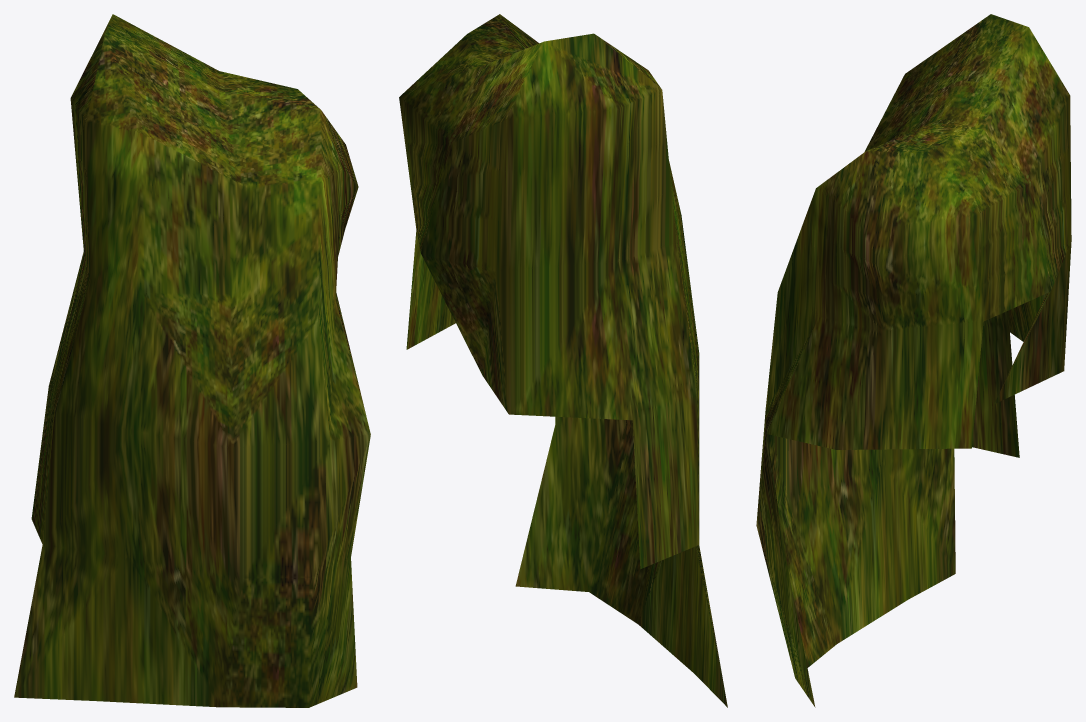
File: TROLLHOLE02_RM_PSURF102.fbx
3 renders of one model, left to right at view 1: azimuth 30°, elevation 25°; view 2: azimuth 150°, elevation 25°; view 3: azimuth 270°, elevation 25°, orthographic. The views are drawn at different scales.
Visible parts, largest first — view 1: TROLLHOLE02_RM_PSURF102; view 2: TROLLHOLE02_RM_PSURF102; view 3: TROLLHOLE02_RM_PSURF102.
Boxes of the visible parts, left/top/right/bottom form: TROLLHOLE02_RM_PSURF102: left=14, top=14, right=370, bottom=707; TROLLHOLE02_RM_PSURF102: left=399, top=14, right=727, bottom=707; TROLLHOLE02_RM_PSURF102: left=756, top=14, right=1071, bottom=707.
Size of the model in its own units: 55515 by 107946 by 50070.
Materials: 1 (1 with a texture image).
